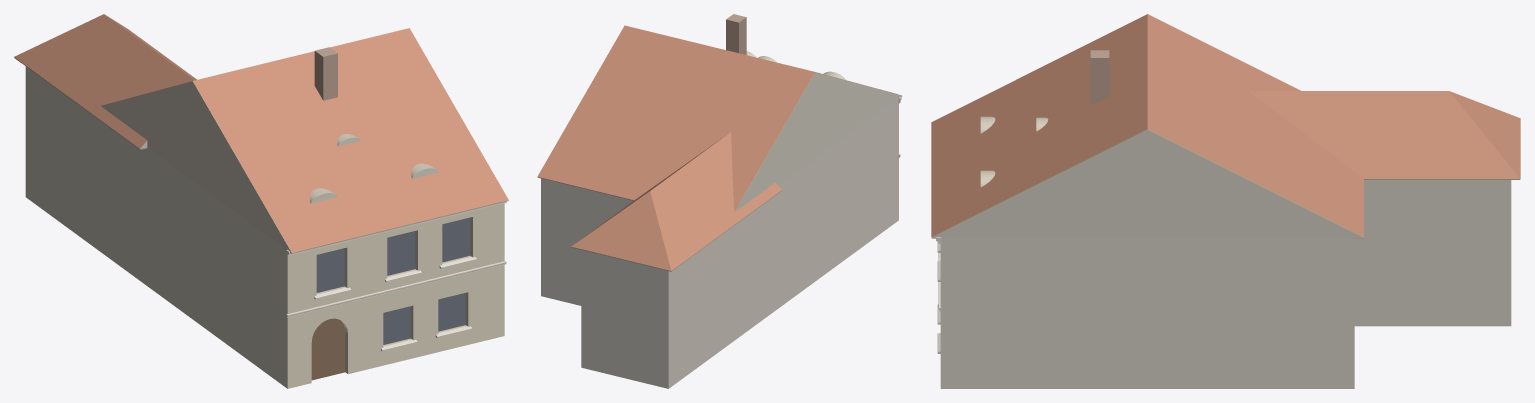
The picture shows the model from 3 angles, left to right: view 1: azimuth 30°, elevation 25°; view 2: azimuth 150°, elevation 25°; view 3: azimuth 270°, elevation 25°; orthographic projection. The views are drawn at different scales.
Visible parts, largest first — view 1: CP_263_Masonry, CP_263_Roof, CP_263_WingRoof_Rear_Wing, CP_263_Gable_L_gable, CP_263_Chimney_0, CP_263_Cornice_string_0, CP_263_Cornice_eave_0; view 2: CP_263_Masonry, CP_263_Roof, CP_263_WingRoof_Rear_Wing, CP_263_Gable_L_gable, CP_263_Chimney_0; view 3: CP_263_Masonry, CP_263_Roof, CP_263_Gable_R_gable, CP_263_WingRoof_Rear_Wing, CP_263_Chimney_0.
Part boxes in pixels (box(x1,y1,x2,y2)): CP_263_Masonry: box(25, 66, 504, 388); CP_263_Roof: box(112, 28, 508, 252); CP_263_WingRoof_Rear_Wing: box(14, 14, 196, 148); CP_263_Gable_L_gable: box(101, 81, 297, 253); CP_263_Chimney_0: box(314, 47, 337, 100); CP_263_Cornice_string_0: box(286, 261, 506, 317); CP_263_Cornice_eave_0: box(286, 201, 506, 256); CP_263_Masonry: box(541, 99, 898, 388); CP_263_Roof: box(537, 25, 897, 212); CP_263_WingRoof_Rear_Wing: box(571, 132, 781, 270); CP_263_Gable_L_gable: box(734, 72, 902, 212); CP_263_Chimney_0: box(726, 14, 746, 54); CP_263_Masonry: box(940, 180, 1511, 388); CP_263_Roof: box(931, 14, 1363, 237); CP_263_Gable_R_gable: box(931, 129, 1363, 238); CP_263_WingRoof_Rear_Wing: box(1249, 91, 1520, 178); CP_263_Chimney_0: box(1090, 50, 1109, 105).
Bounding box in the file's own units: 10.68 × 11.6 × 22.2.
